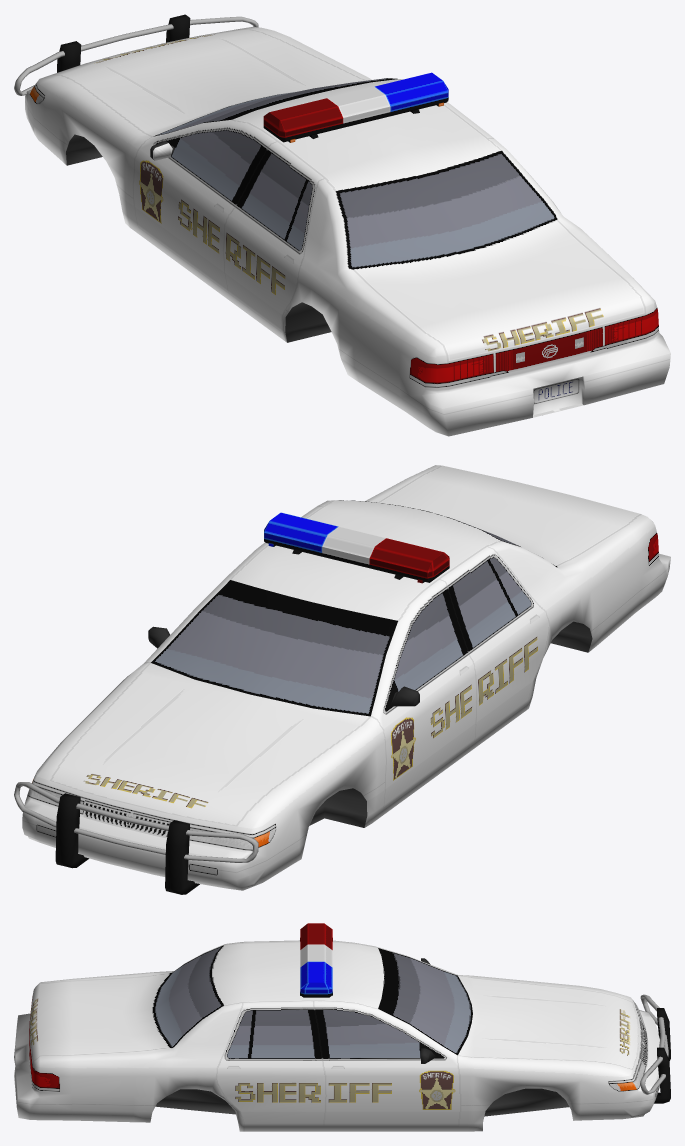
File: 92grandmarquissheriff.fbx
3 views of the same model, one above another, from view 1: azimuth 30°, elevation 25°; view 2: azimuth 150°, elevation 25°; view 3: azimuth 270°, elevation 25° (orthographic). The views are drawn at different scales.
Visible parts, largest first — view 1: 92grandmarquissheriff; view 2: 92grandmarquissheriff; view 3: 92grandmarquissheriff.
Part boxes in pixels (left/top/right/bottom): 92grandmarquissheriff: left=14, top=14, right=670, bottom=436; 92grandmarquissheriff: left=14, top=465, right=670, bottom=894; 92grandmarquissheriff: left=14, top=923, right=670, bottom=1131.
Bounding box in the file's own units: 2.04 × 1.31 × 5.82.
